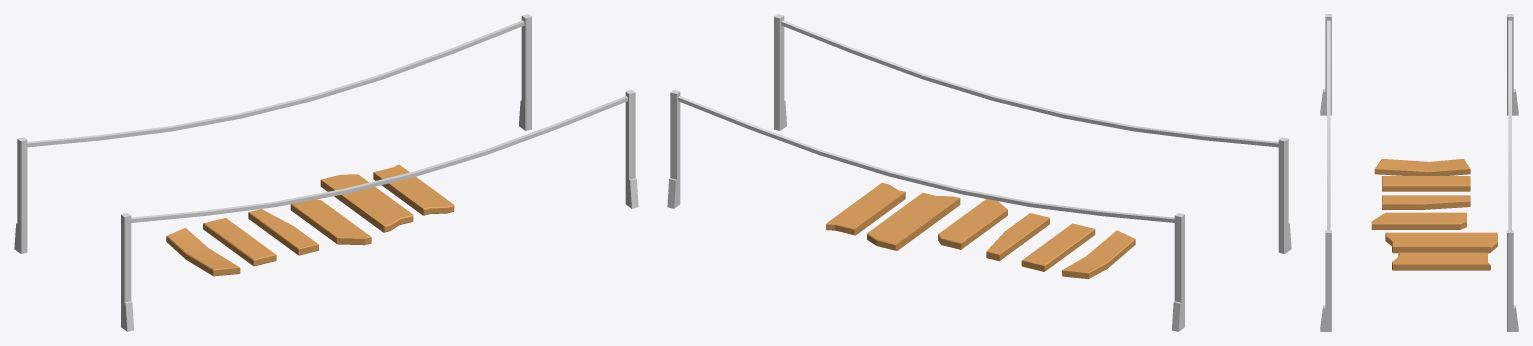
File: Bridge_pieces 1.fbx
3 views of the same model, side by side, from view 1: azimuth 30°, elevation 25°; view 2: azimuth 150°, elevation 25°; view 3: azimuth 270°, elevation 25° (orthographic). The views are drawn at different scales.
Parts seen in each view (by area): view 1: Rope, Plank_005, Plank_004, Plank_006, Plank_001, Plank_002, Plank_003; view 2: Rope, Plank_005, Plank_006, Plank_004, Plank_002, Plank_001, Plank_003; view 3: Rope, Plank_005, Plank_006, Plank_004, Plank_001, Plank_002, Plank_003.
Part boxes in pixels (box(x1,y1,x2,y2)): Rope: box(14, 14, 638, 331); Plank_005: box(320, 174, 413, 232); Plank_004: box(290, 199, 371, 245); Plank_006: box(373, 164, 454, 215); Plank_001: box(166, 227, 240, 276); Plank_002: box(203, 218, 276, 266); Plank_003: box(248, 209, 318, 255); Rope: box(667, 14, 1291, 331); Plank_005: box(867, 192, 960, 250); Plank_006: box(826, 182, 905, 235); Plank_004: box(938, 199, 1007, 249); Plank_002: box(1021, 223, 1095, 271); Plank_001: box(1062, 230, 1135, 279); Plank_003: box(986, 213, 1049, 261); Rope: box(1320, 14, 1518, 331); Plank_005: box(1385, 232, 1497, 253); Plank_006: box(1392, 252, 1490, 270); Plank_004: box(1371, 212, 1466, 229); Plank_001: box(1374, 159, 1470, 175); Plank_002: box(1382, 176, 1470, 191); Plank_003: box(1382, 195, 1470, 209).
Bounding box in the file's own units: 608 × 132 × 233.
